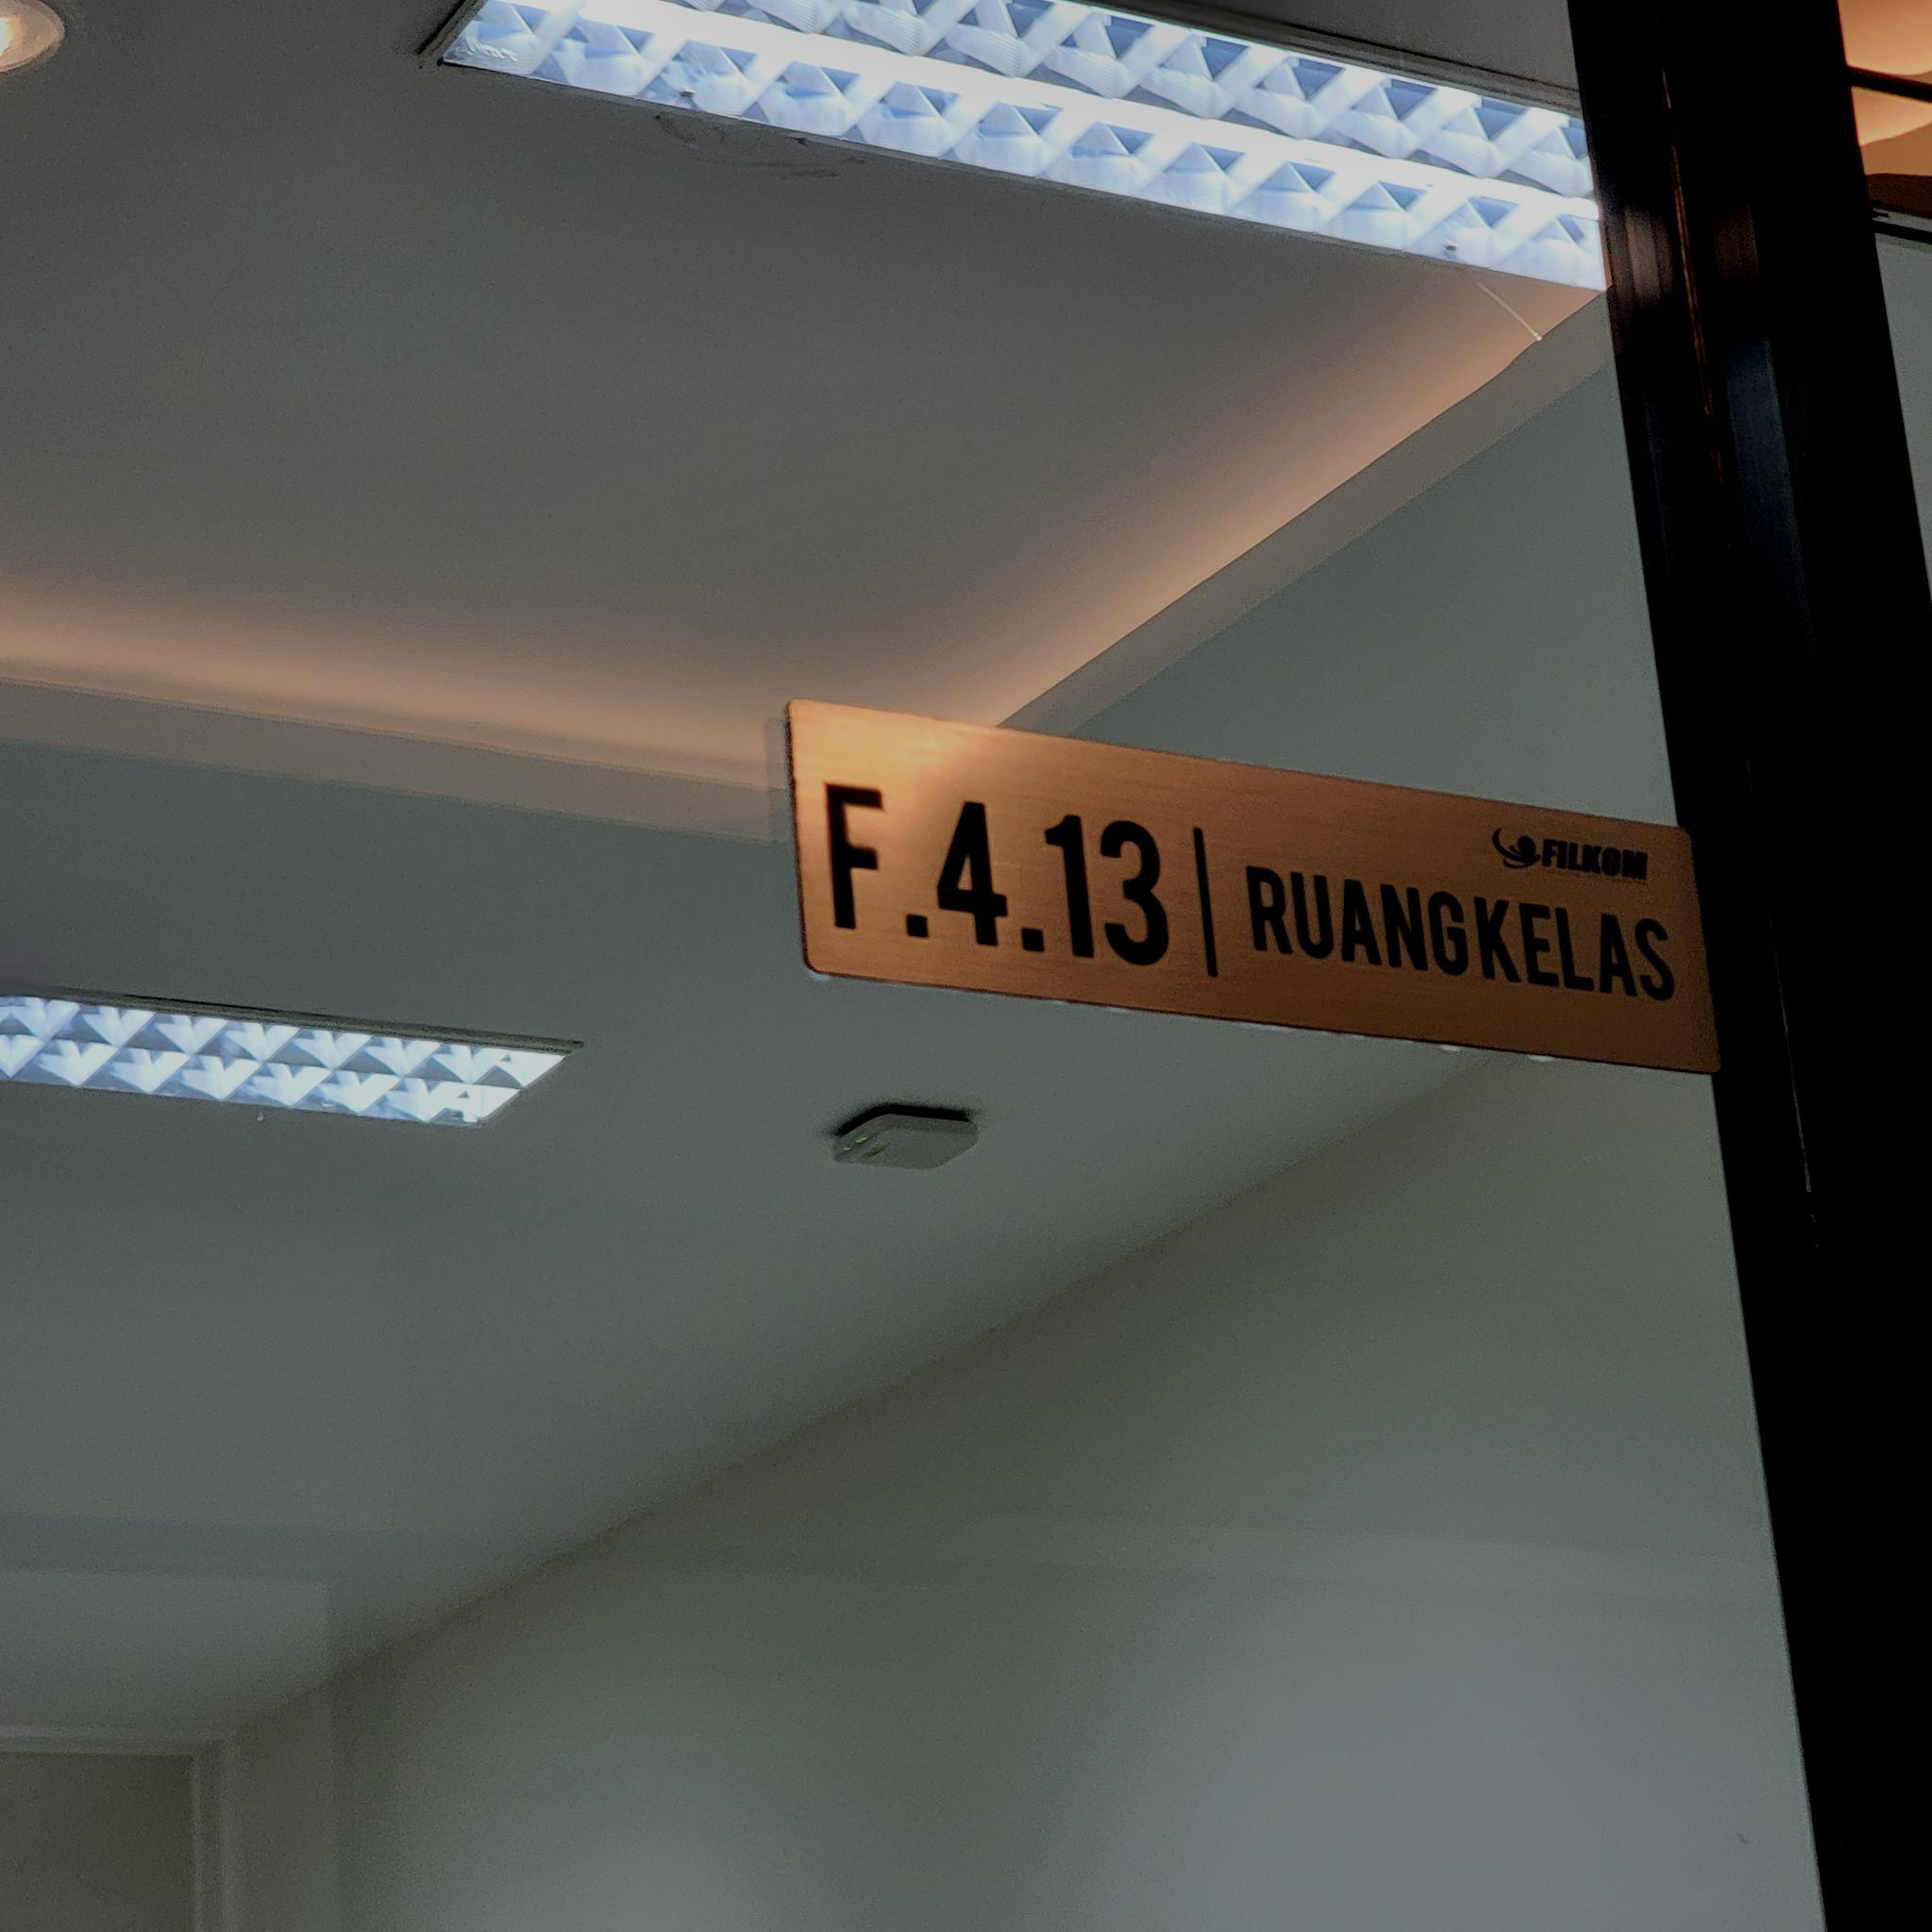plate: (786, 699, 1723, 1079)
